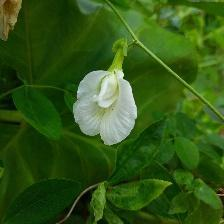shankupushpam: (75, 70, 140, 148)
